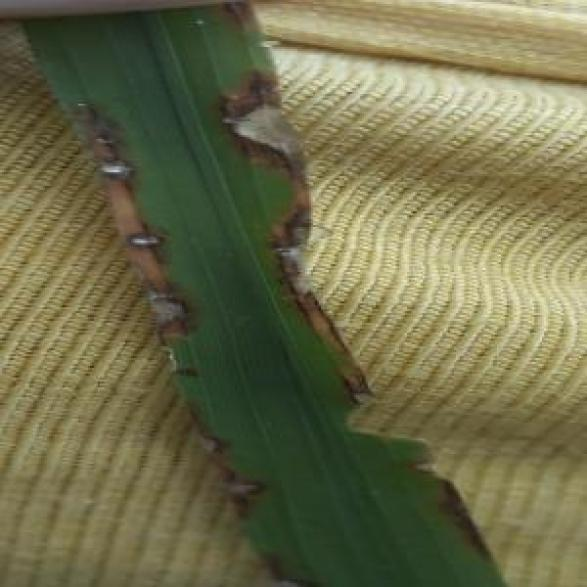Leaf_smut: (212, 61, 300, 172), (256, 190, 329, 309), (61, 101, 135, 196), (135, 268, 204, 358), (213, 460, 268, 514), (125, 206, 176, 260), (339, 362, 388, 405), (194, 419, 225, 454)
